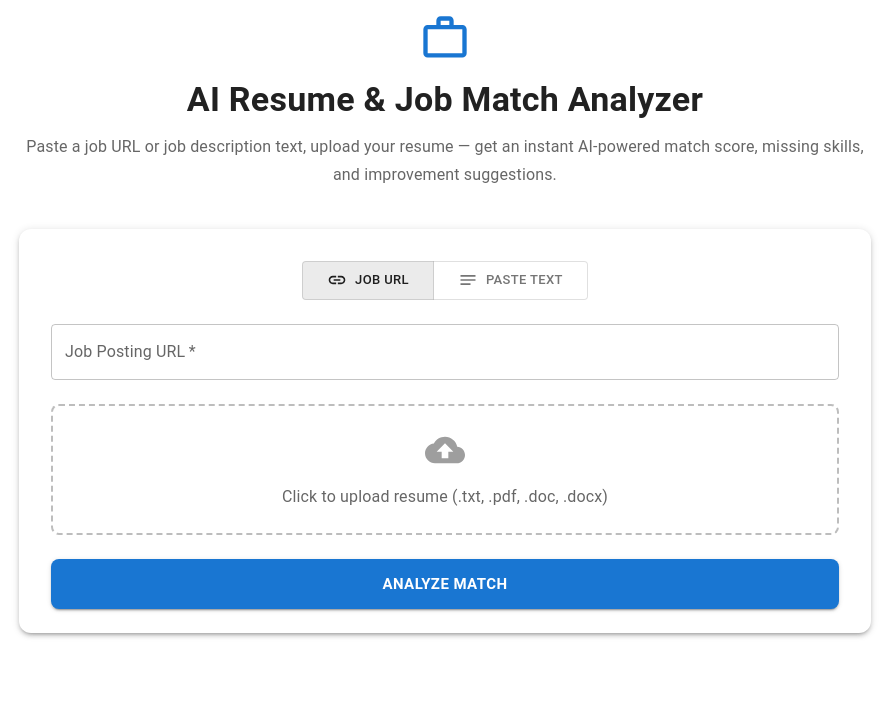
it: ResumeAnalyzer › shows error when resume is missing
In the field labelled "Job Posting URL *": (445, 352) x1=51 y1=324 x2=839 y2=380, type "https://example.com/job"
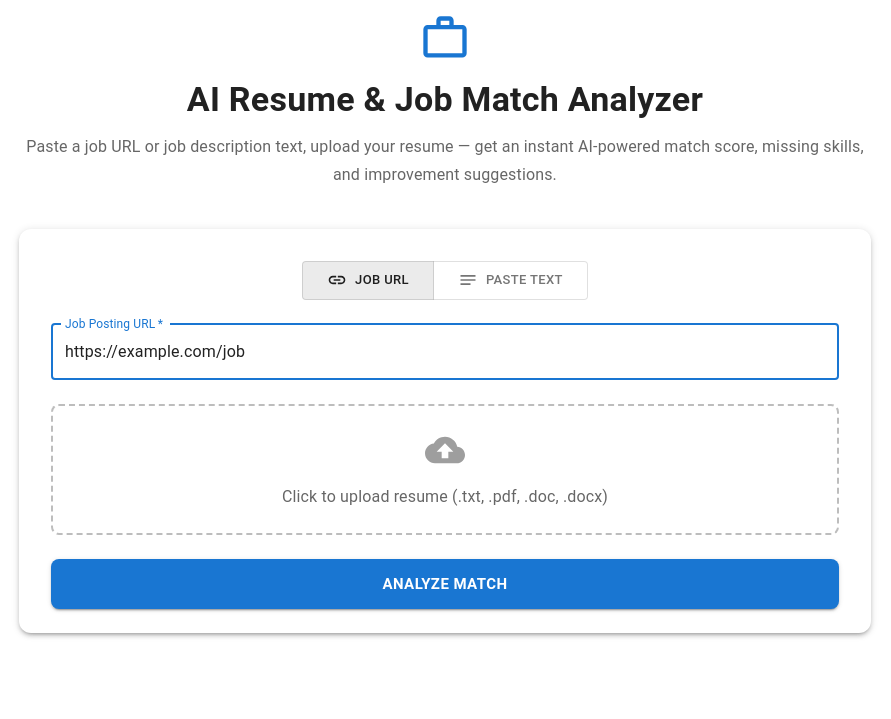
Click the button "Analyze Match": (445, 584) x1=51 y1=559 x2=839 y2=609
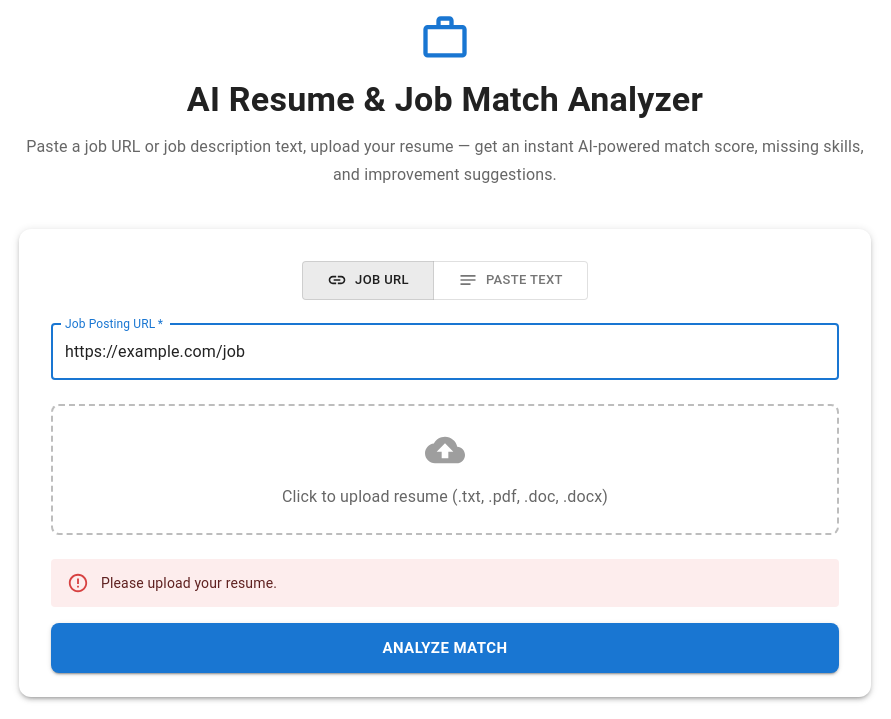
Result: the text "Please upload your resume." is shown at x1=101 y1=575 x2=277 y2=591
